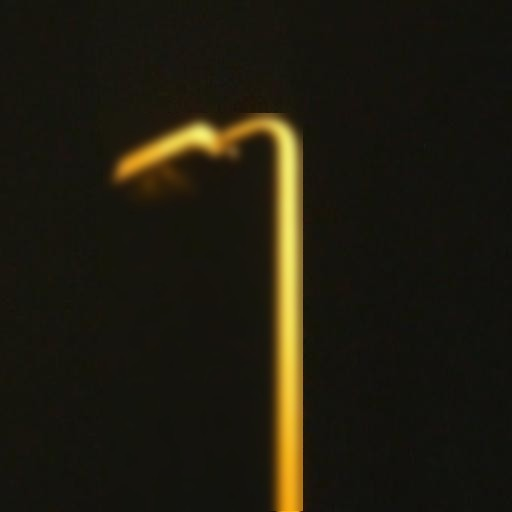apagada: (111, 124, 244, 220)
